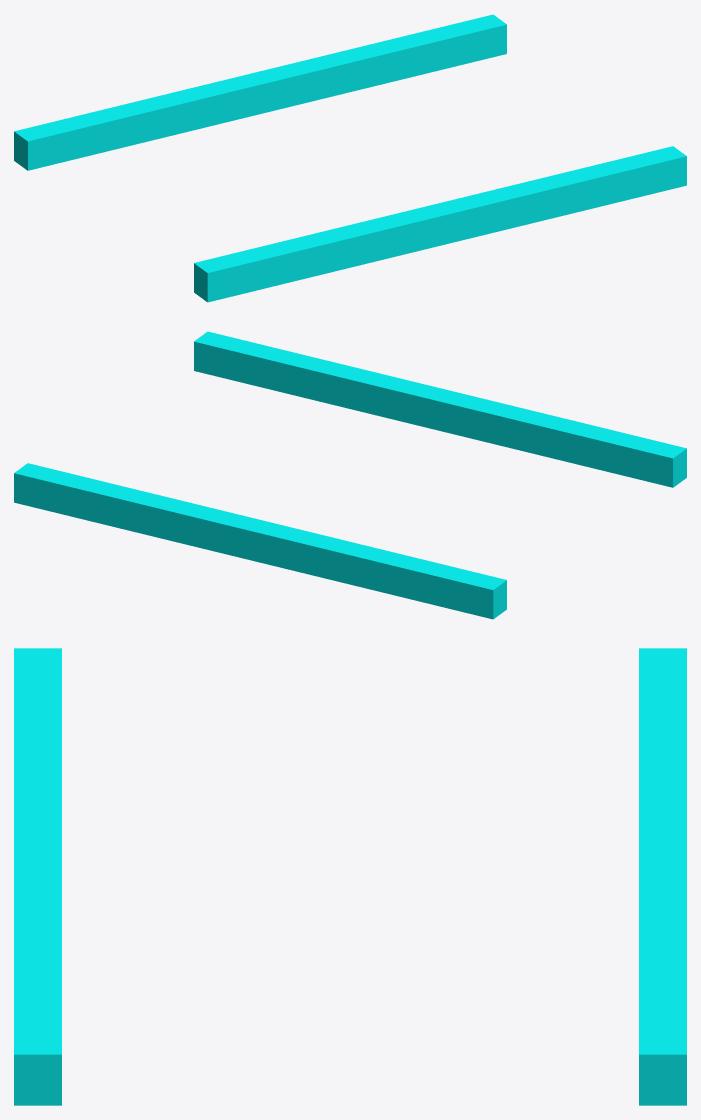
The model's file is RAILS_BASIC.fbx.
The picture shows the model from 3 angles, top to bottom: view 1: azimuth 30°, elevation 25°; view 2: azimuth 150°, elevation 25°; view 3: azimuth 270°, elevation 25°; orthographic projection. The views are drawn at different scales.
Parts seen in each view (by area): view 1: RAILS_BASIC; view 2: RAILS_BASIC; view 3: RAILS_BASIC.
Part boxes in pixels (box(x1,y1,x2,y2)): RAILS_BASIC: box(14, 14, 686, 302); RAILS_BASIC: box(14, 331, 686, 619); RAILS_BASIC: box(14, 648, 686, 1105).
Bounding box in the file's own units: 100 × 5.86 × 70.
